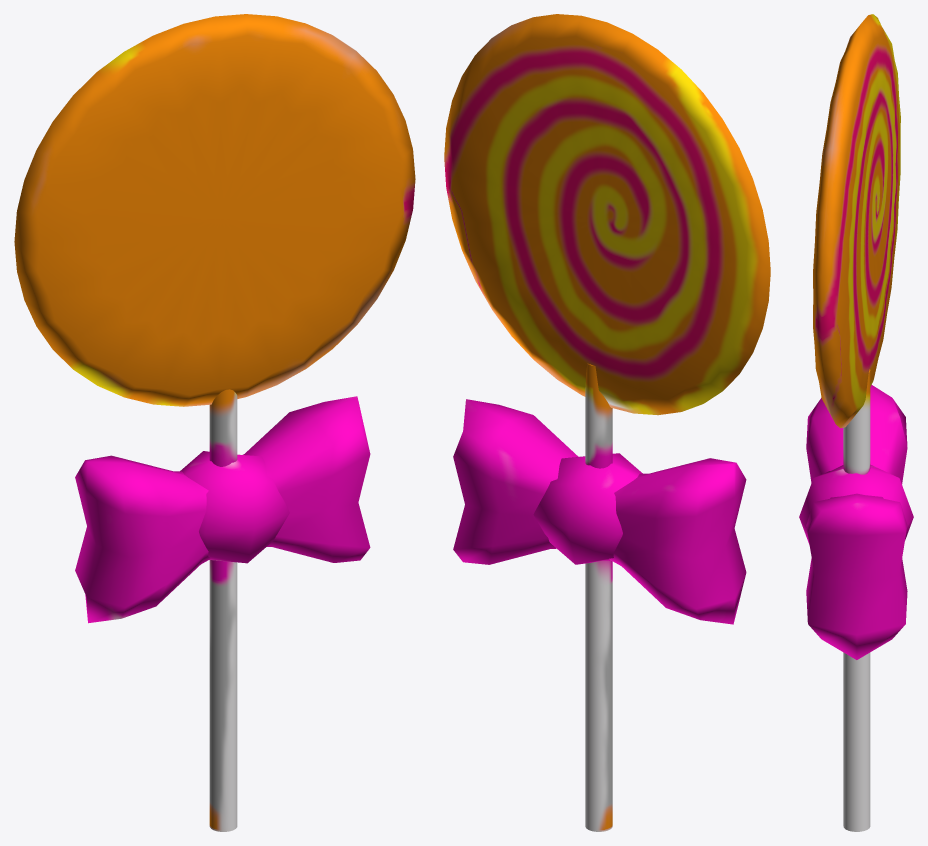
The model's file is lollipop.fbx.
3 views of the same model, side by side, from view 1: azimuth 30°, elevation 25°; view 2: azimuth 150°, elevation 25°; view 3: azimuth 270°, elevation 25° (orthographic). The views are drawn at different scales.
Parts seen in each view (by area): view 1: pCylinder3, pCube1, pCylinder2, pCube2; view 2: pCylinder3, pCube1, pCylinder2, pCube2; view 3: pCylinder3, pCube1, pCylinder2, pCube2.
Boxes of the visible parts, <box> form: pCylinder3: <box>14,14,415,406</box>; pCube1: <box>75,396,370,623</box>; pCylinder2: <box>209,389,237,831</box>; pCube2: <box>180,451,289,563</box>; pCylinder3: <box>444,14,770,415</box>; pCube1: <box>453,399,746,624</box>; pCylinder2: <box>585,363,612,831</box>; pCube2: <box>533,453,642,564</box>; pCylinder3: <box>813,14,900,428</box>; pCube1: <box>806,385,907,659</box>; pCylinder2: <box>843,369,870,831</box>; pCube2: <box>799,464,913,544</box>.
Size of the model in its own units: 2.29 by 4.87 by 0.6414.
